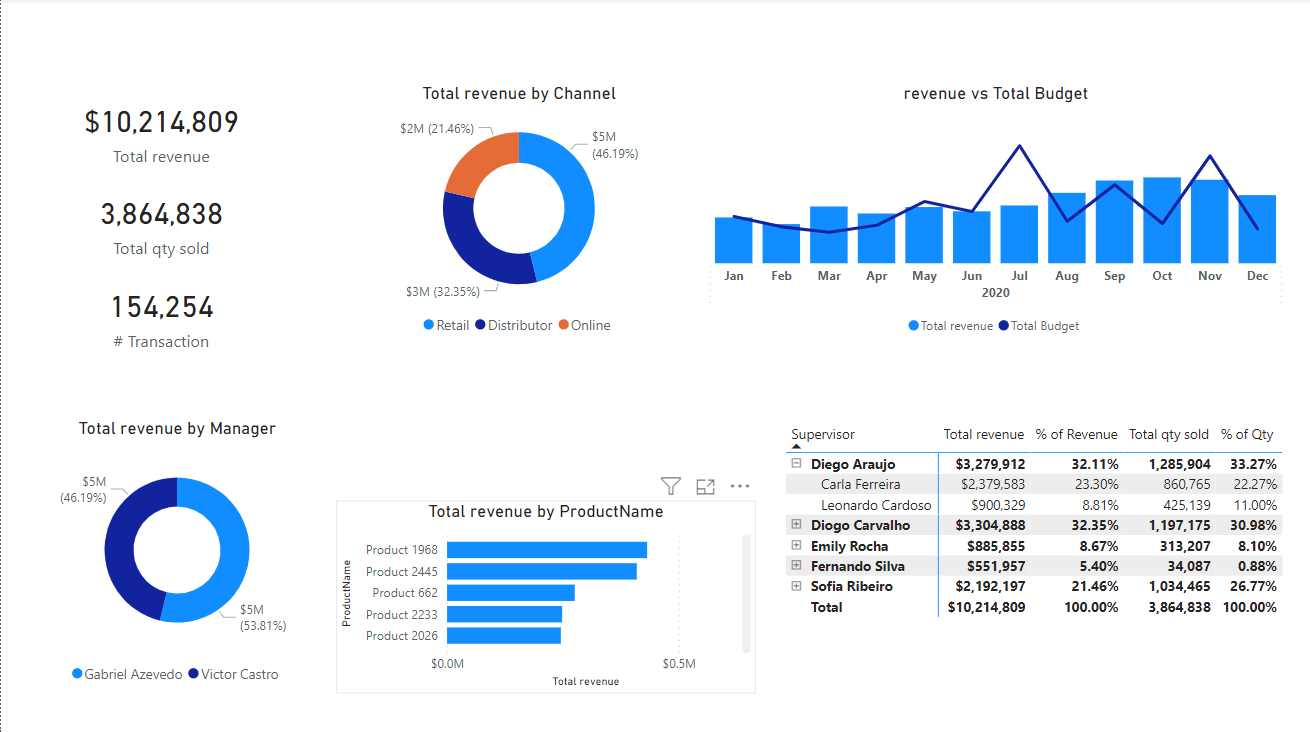

The dashboard page shown, as its layout file describes it:
{"tool":"powerbi","page":{"name":"Sales Dashboard","canvas":[1280,720],"ordinal":0},"visuals":[{"type":"card","fields":{"Values":["Measure Table.Total revenue"]},"box":[129,267.7,184.5,92.9],"z":0},{"type":"card","fields":{"Values":["Measure Table.Total qty sold"]},"box":[120,154.4,184.5,88],"z":1000},{"type":"card","fields":{"Values":["Measure Table.# Transaction"]},"box":[111,36.2,184.5,92.9],"z":2000},{"type":"donutChart","fields":{"Category":["Dim_salesperson.Manager"],"Y":["Measure Table.Total revenue"]},"box":[50.7,426.9,243.6,268.9],"z":3000},{"type":"donutChart","fields":{"Category":["FactTable.Channel"],"Y":["Measure Table.Total revenue"]},"box":[313.6,83.2,338.9,241.2],"z":4000},{"type":"lineStackedColumnComboChart","title":"revenue vs Total Budget ","fields":{"Category":["Calender.Year Hierarchy.Year","Calender.Year Hierarchy.Month","Calender.Year Hierarchy.Qtr"],"Y":["Measure Table.Total revenue"],"Y2":["Measure Table.Total Budget"]},"box":[682.6,83.2,597,241.2],"z":5000},{"type":"barChart","fields":{"Category":["Dim_salesperson.Salesperson"],"Y":["Measure Table.Total revenue"]},"box":[313.6,493.3,430.6,202.6],"z":6000},{"type":"pivotTable","fields":{"Rows":["Dim_salesperson.Supervisor","Dim_salesperson.Salesperson"],"Values":["Measure Table.Total revenue","Measure Table.Pct of Revenue","Measure Table.Total qty sold","Measure Table.Pct of Qtr"]},"box":[769.4,334.1,498.1,370.3],"z":7000},{"type":"actionButton","box":[0,0,100,40],"z":8000},{"type":"slicer","fields":{"Values":["SelectToRank.SelectToRank"]},"box":[313.6,334.1,430.6,150.8],"z":9000},{"type":"textbox","box":[331.8,17.8,898,74],"z":10000}]}

Visuals, with their boxes in screenshot pixels (x1, y1, x2, y2), scaled from the page's 1280x720 canvas onto the 1310x732 screenshot:
card - Measure Table.Total revenue: (x1=132, y1=272, x2=321, y2=367)
card - Measure Table.Total qty sold: (x1=123, y1=157, x2=312, y2=246)
card - Measure Table.# Transaction: (x1=114, y1=37, x2=302, y2=131)
donutChart - Dim_salesperson.Manager x Measure Table.Total revenue: (x1=52, y1=434, x2=301, y2=707)
donutChart - FactTable.Channel x Measure Table.Total revenue: (x1=321, y1=85, x2=668, y2=330)
"revenue vs Total Budget " lineStackedColumnComboChart: (x1=699, y1=85, x2=1309, y2=330)
barChart - Dim_salesperson.Salesperson x Measure Table.Total revenue: (x1=321, y1=502, x2=762, y2=707)
pivotTable - Dim_salesperson.Supervisor x Dim_salesperson.Salesperson: (x1=787, y1=340, x2=1297, y2=716)
actionButton: (x1=0, y1=0, x2=102, y2=41)
slicer - SelectToRank.SelectToRank: (x1=321, y1=340, x2=762, y2=493)
textbox: (x1=340, y1=18, x2=1259, y2=93)
